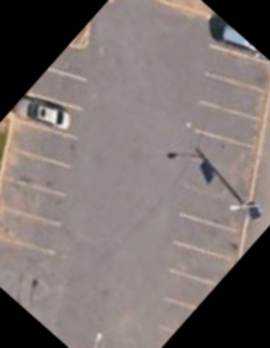parkingspot: (146, 11, 270, 348), (0, 42, 102, 261)
